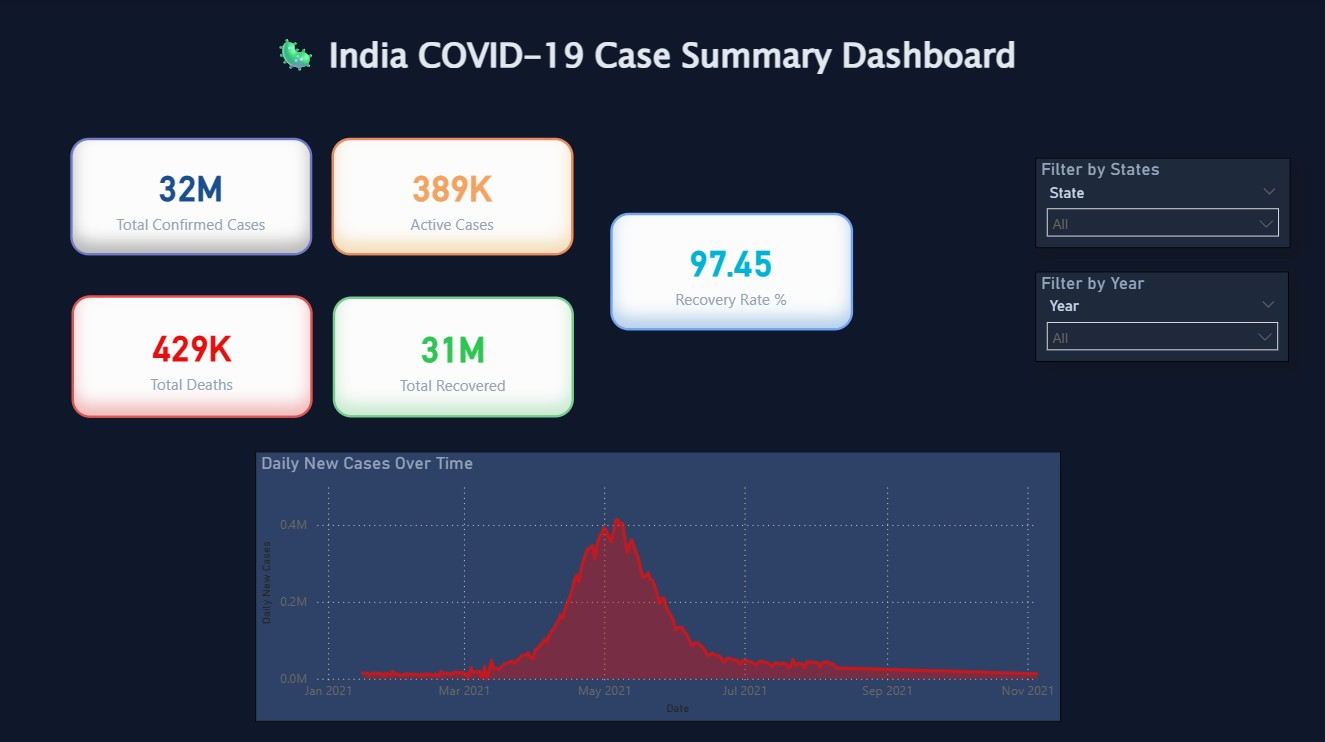

What the dashboard file says about the page in this screenshot:
{"tool":"powerbi","page":{"name":"Case Summary","canvas":[1280,720],"ordinal":1},"visuals":[{"type":"card","fields":{"Values":["RawData.Total Confirmed"]},"box":[68.5,133.6,233.6,113.7],"z":0},{"type":"card","fields":{"Values":["RawData.Active Cases"]},"box":[320.4,133.6,233.6,113.7],"z":1000},{"type":"card","fields":{"Values":["RawData.Total Recovered"]},"box":[321.6,287.1,232.8,117],"z":2000},{"type":"card","fields":{"Values":["RawData.Total Deaths"]},"box":[69.5,285.9,232.8,118.2],"z":3000},{"type":"card","fields":{"Values":["RawData.Recovery Rate %"]},"box":[589.5,206.3,234,113.4],"z":4000},{"type":"lineChart","title":"Daily New Cases Over Time","fields":{"Y":["RawData.Daily_New_Cases"],"Category":["DateTable.Date"]},"box":[247,436.6,777.7,260.5],"z":5000},{"type":"slicer","title":"Filter by States","fields":{"Values":["RawData.State"]},"box":[1000.1,153.2,246.1,86.9],"z":6000},{"type":"slicer","title":"Filter by Year","fields":{"Values":["DateTable.Year"]},"box":[1000.1,263,244.9,86.9],"z":7000},{"type":"textbox","box":[259.4,25.3,752.8,71.2],"z":8000}]}

Visuals, with their boxes in screenshot pixels (x1, y1, x2, y2), scaled from the page's 1280x720 canvas onto the 1325x742 screenshot:
card - RawData.Total Confirmed: 71 138 313 255
card - RawData.Active Cases: 332 138 573 255
card - RawData.Total Recovered: 333 296 574 416
card - RawData.Total Deaths: 72 295 313 416
card - RawData.Recovery Rate %: 610 213 852 329
"Daily New Cases Over Time" lineChart: 256 450 1061 718
"Filter by States" slicer: 1035 158 1290 247
"Filter by Year" slicer: 1035 271 1289 361
textbox: 269 26 1048 99
